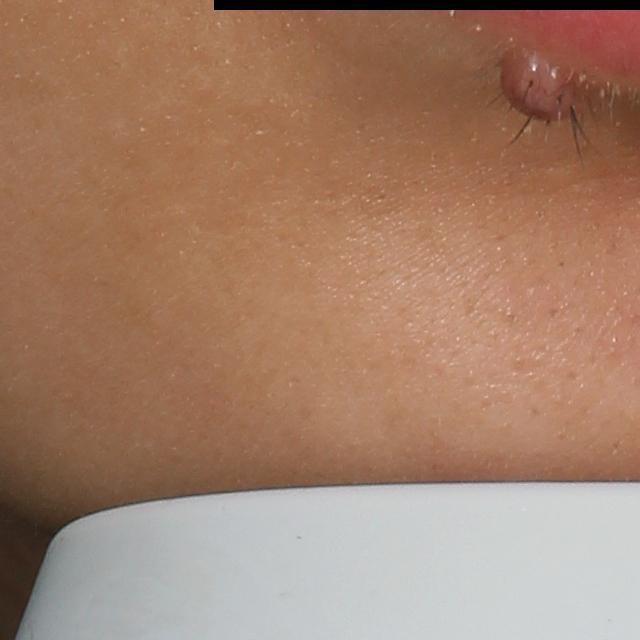other: (490, 41, 598, 133)
